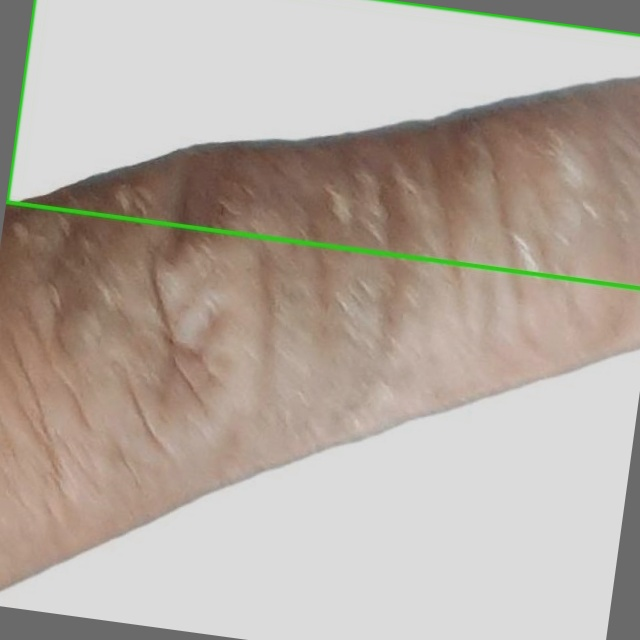Eczema: (7, 0, 639, 288)
